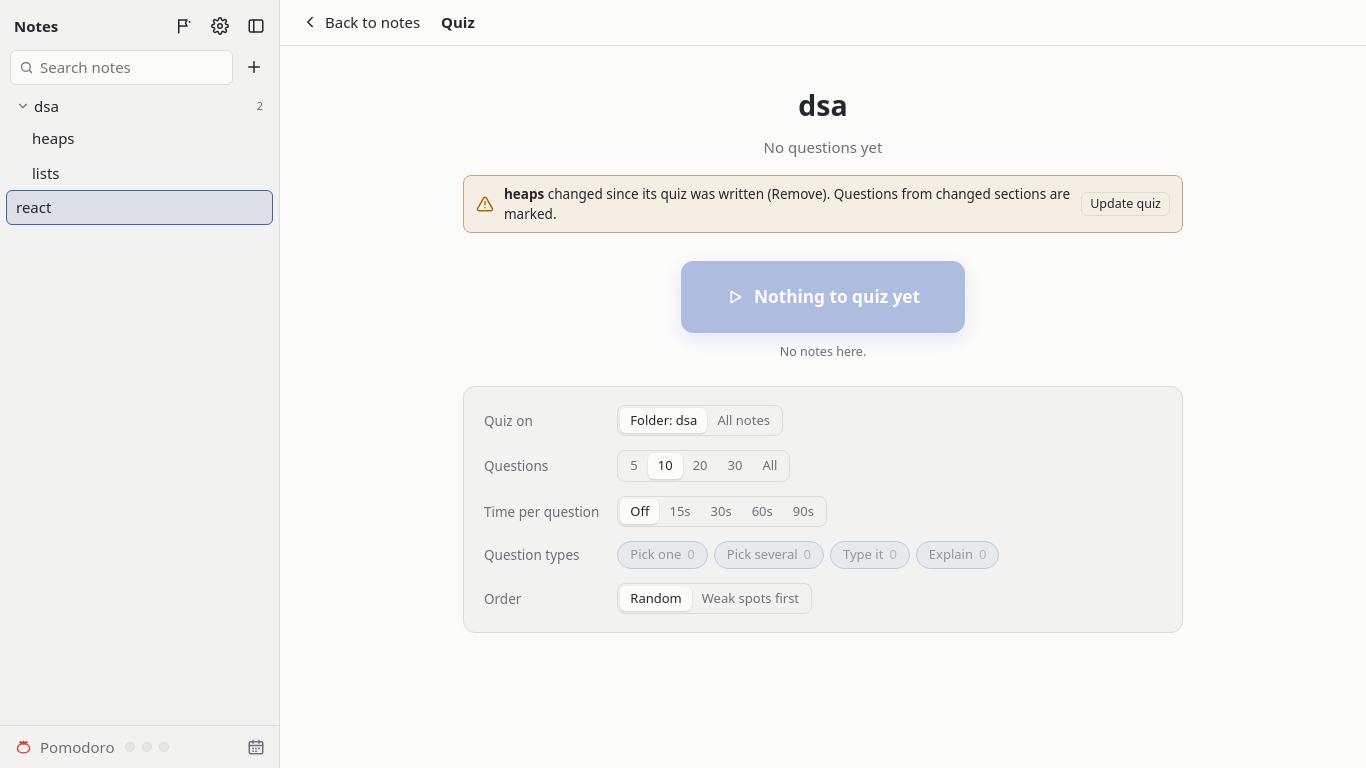
Test: Update quiz › "Keep the questions" marks the quiz as up to date without a reply
Click the button "Update quiz".
click(1126, 204)  # box top-left (1081, 192), bottom-right (1170, 216)
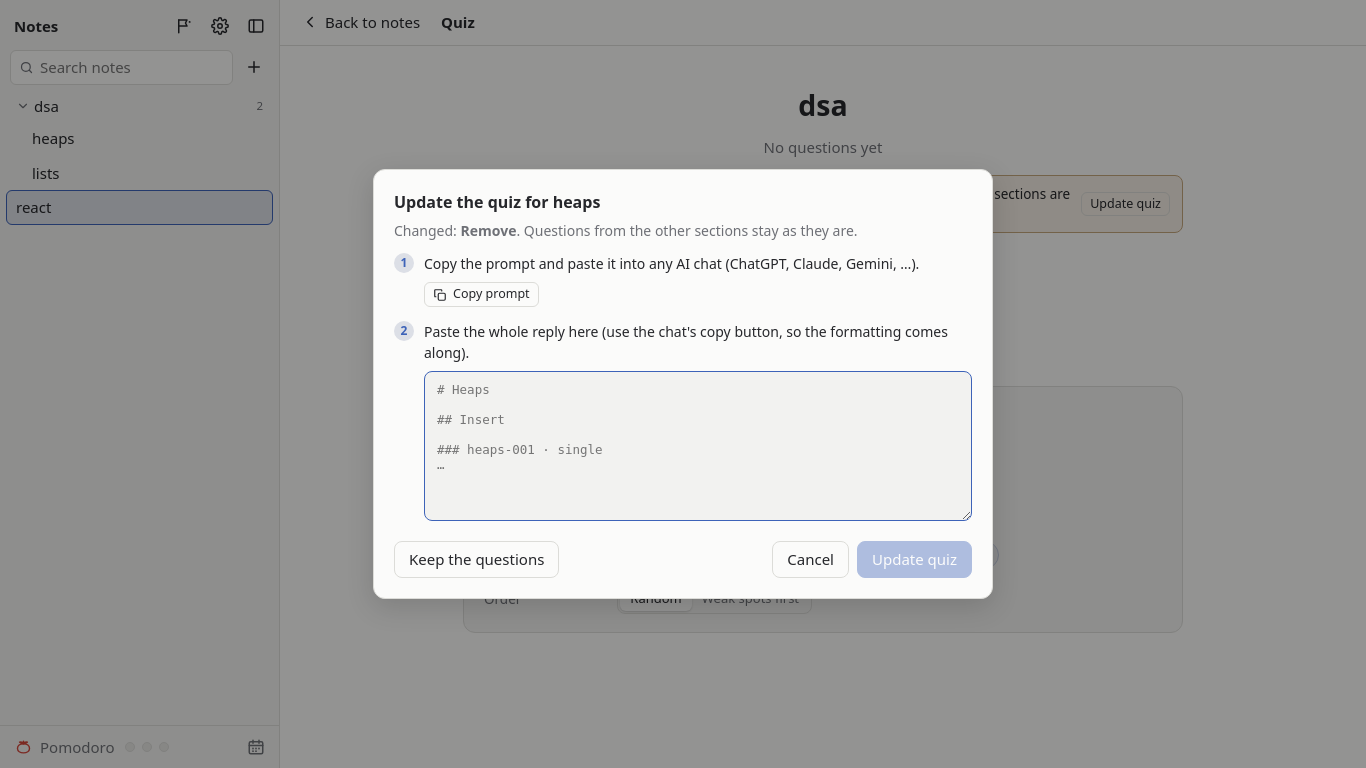
Now the button "Keep the questions" is enabled
Click the button "Keep the questions".
click(477, 559)  # box top-left (394, 541), bottom-right (559, 578)
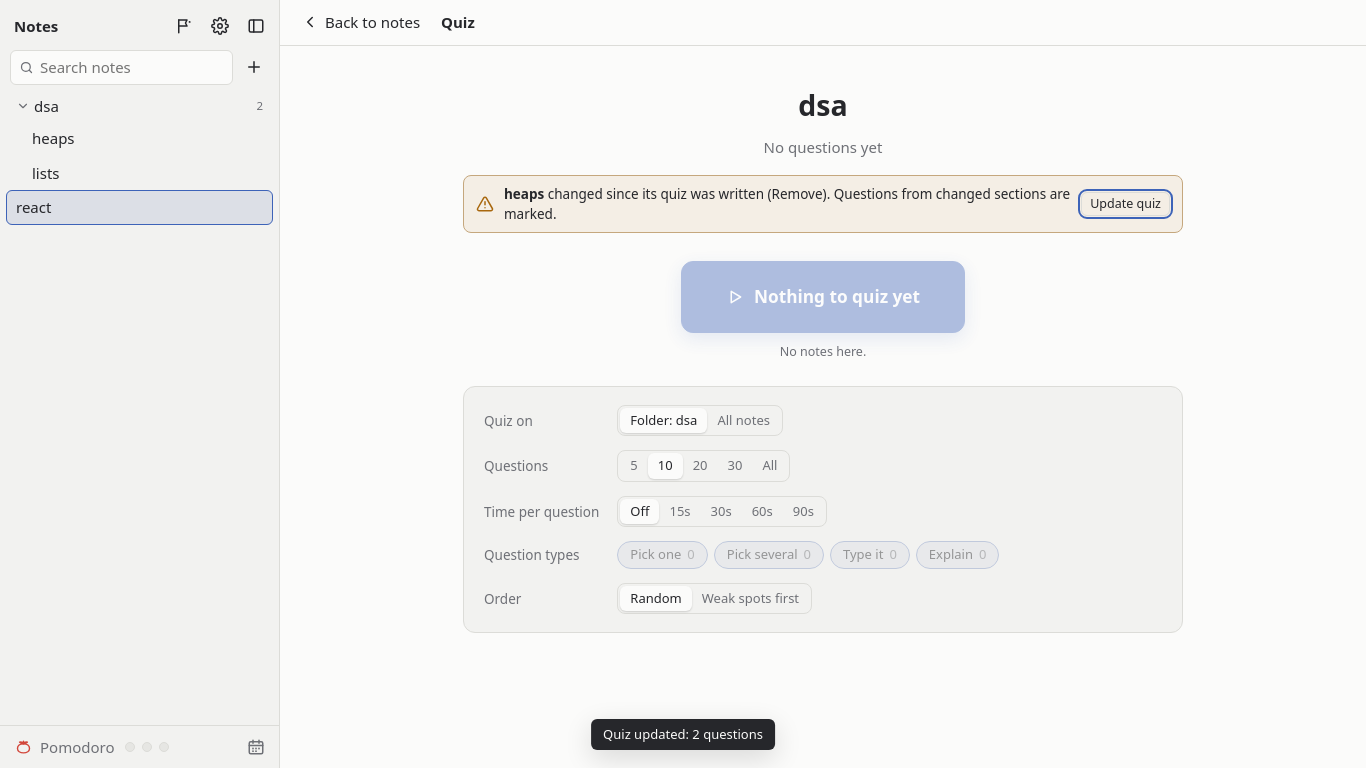
Now the dialog is gone
